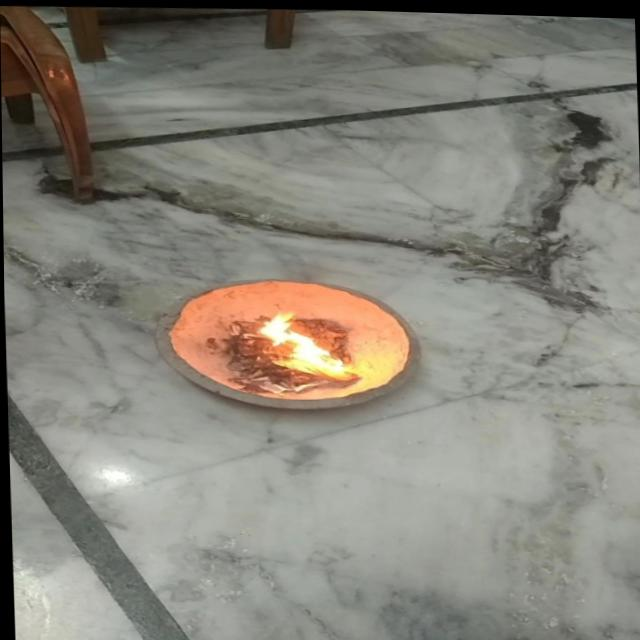fire: (253, 310, 357, 377)
